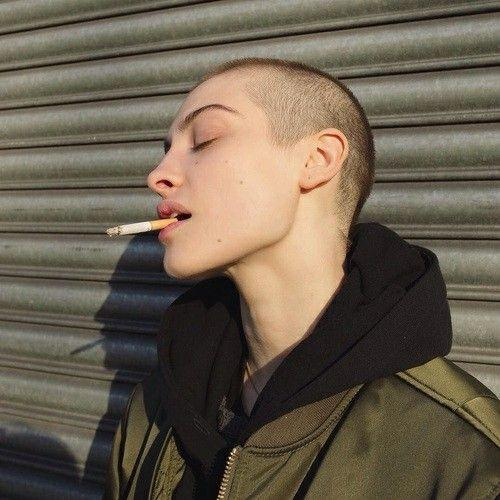cigarette: (105, 218, 178, 237)
